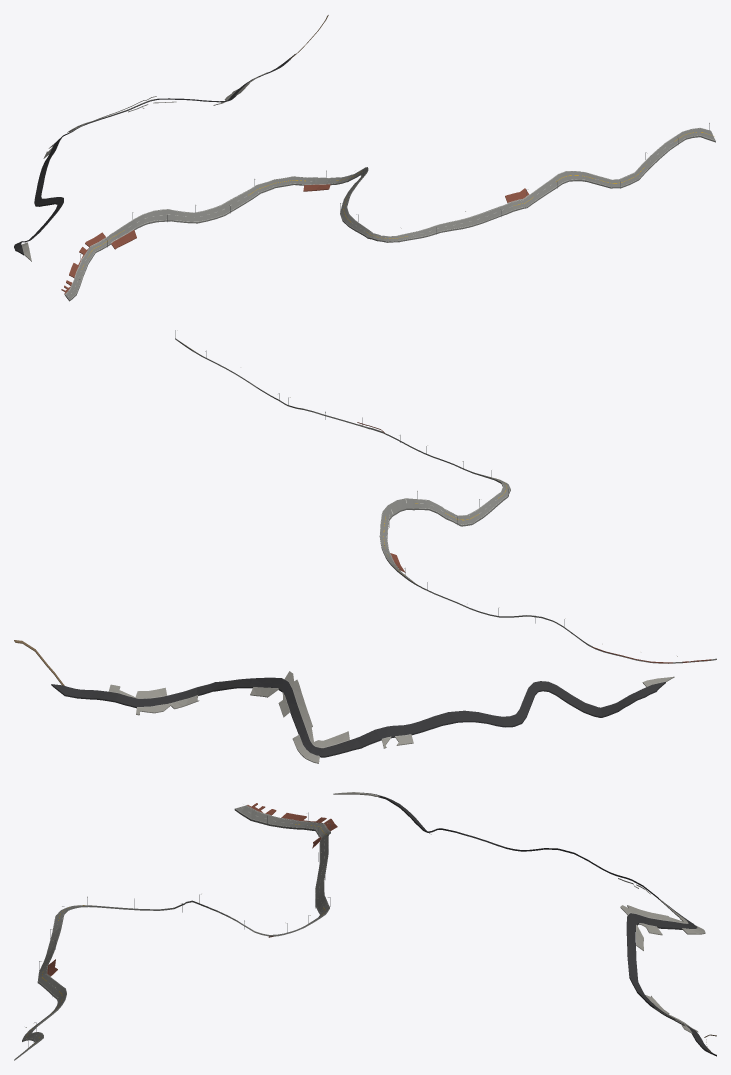
3 renders of one model, top to bottom at view 1: azimuth 30°, elevation 25°; view 2: azimuth 150°, elevation 25°; view 3: azimuth 270°, elevation 25°, orthographic. The views are drawn at different scales.
Bounding box in the file's own units: 591 × 104 × 485.
